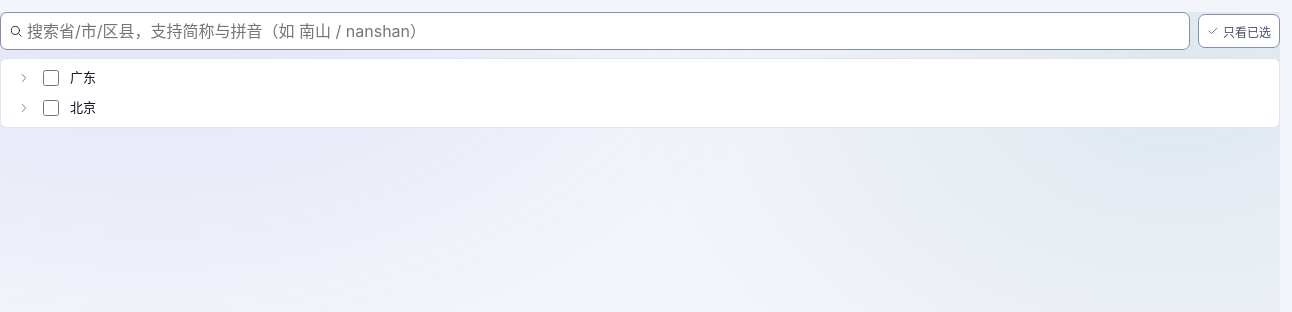
Test: DistrictTree · 只看已选 › 一个都没选时给空态
Click the button with test id "district-selected-only".
click(1239, 31)  # box [1198,14,1280,48]
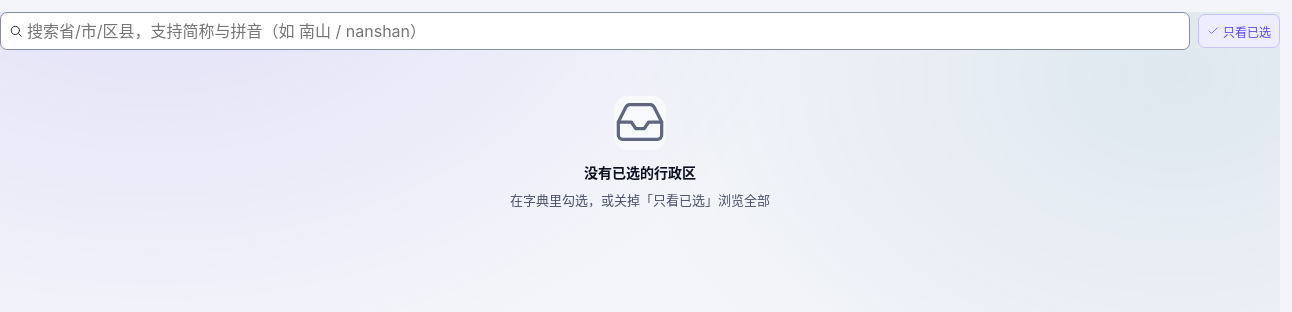
expect the text "没有已选的行政区" is shown: met, box [584,162,696,183]
